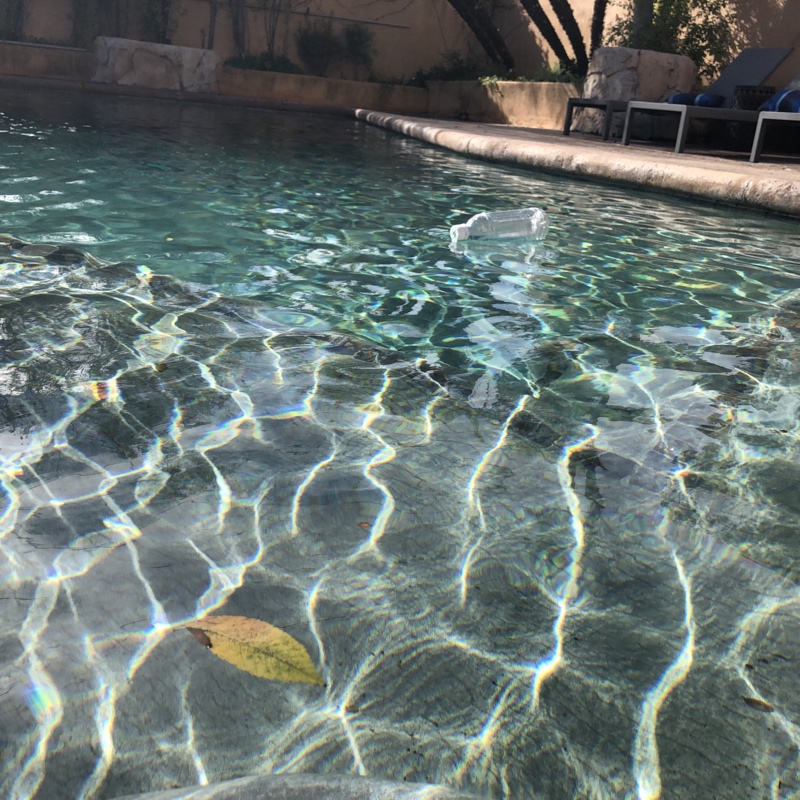Plastic Bottle: (447, 199, 553, 250)
